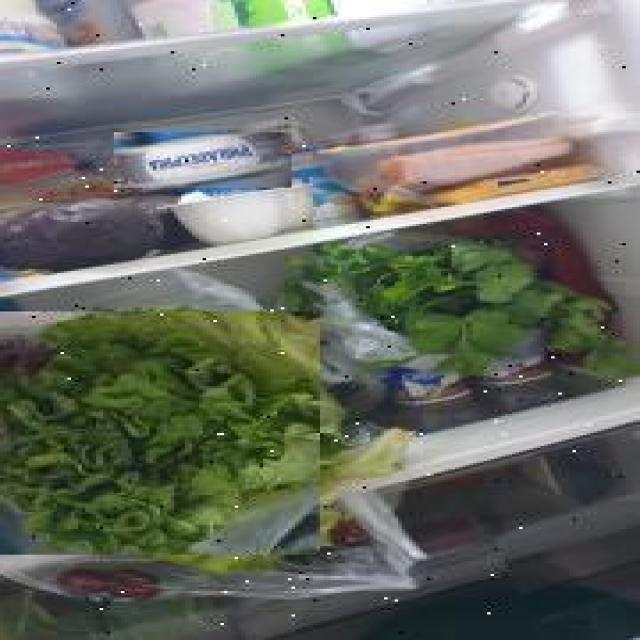avocado: (3, 202, 164, 268)
cheese: (114, 132, 292, 188)
salad: (0, 312, 320, 554)
